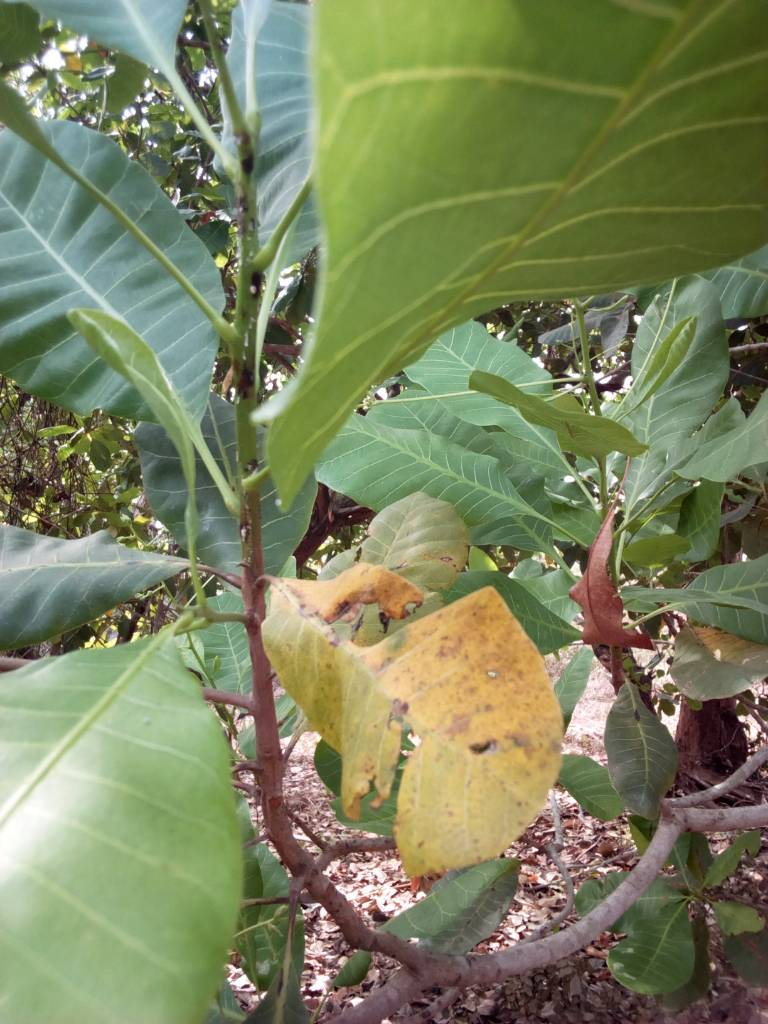Bactériose: (257, 569, 566, 867)
